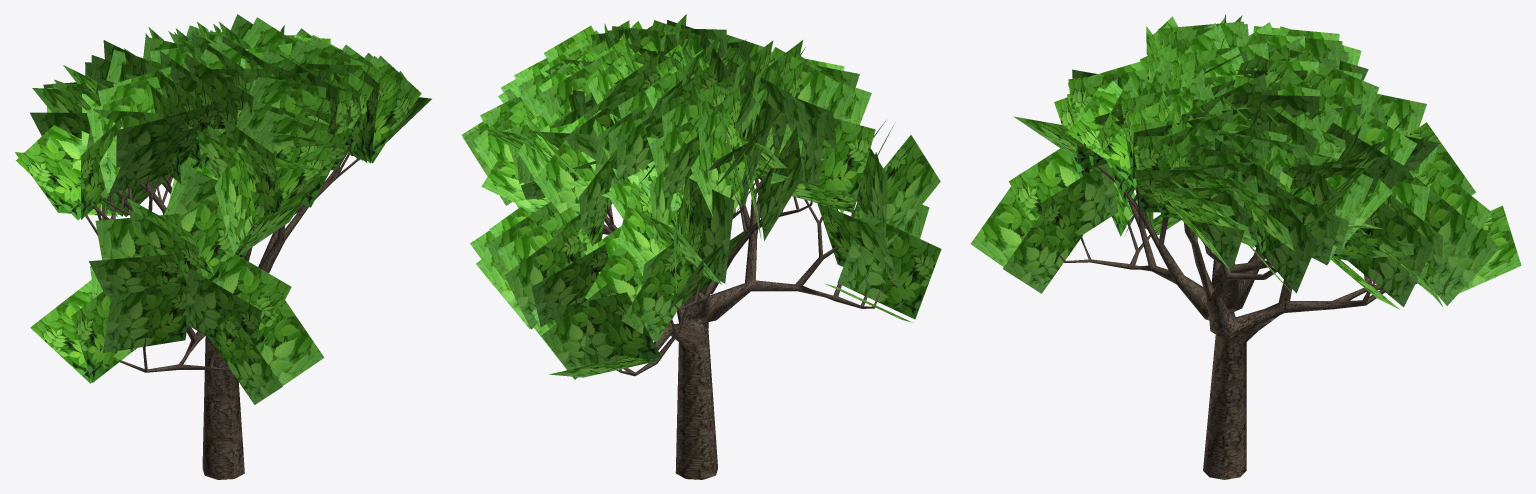
3 views of the same model, side by side, from view 1: azimuth 30°, elevation 25°; view 2: azimuth 150°, elevation 25°; view 3: azimuth 270°, elevation 25° (orthographic).
Parts seen in each view (by area): view 1: twig_008, tree_008; view 2: twig_008, tree_008; view 3: twig_008, tree_008.
Boxes of the visible parts, x1,y1,x2,y2 form: twig_008: [15, 14, 431, 404]; tree_008: [85, 151, 358, 479]; twig_008: [461, 14, 941, 379]; tree_008: [575, 167, 882, 479]; twig_008: [970, 14, 1521, 309]; tree_008: [1057, 166, 1417, 479].
Bounding box in the file's own units: 15.14 × 17.72 × 15.13.
2 materials, 2 textured.
